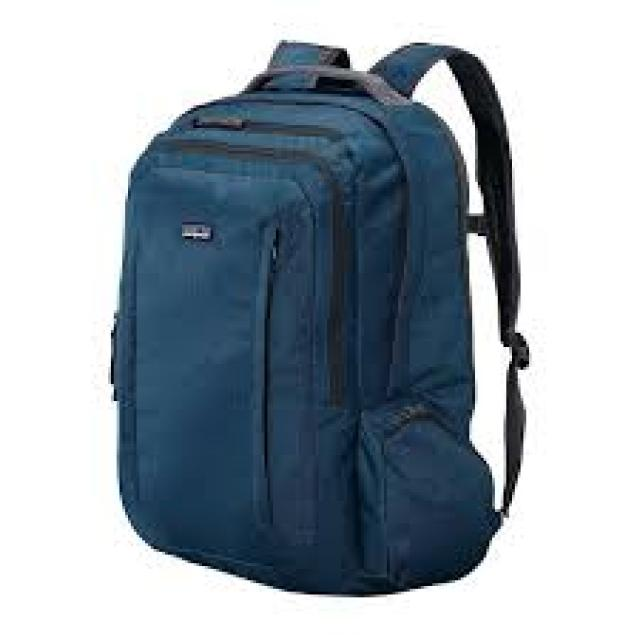backpack: (109, 38, 530, 595)
